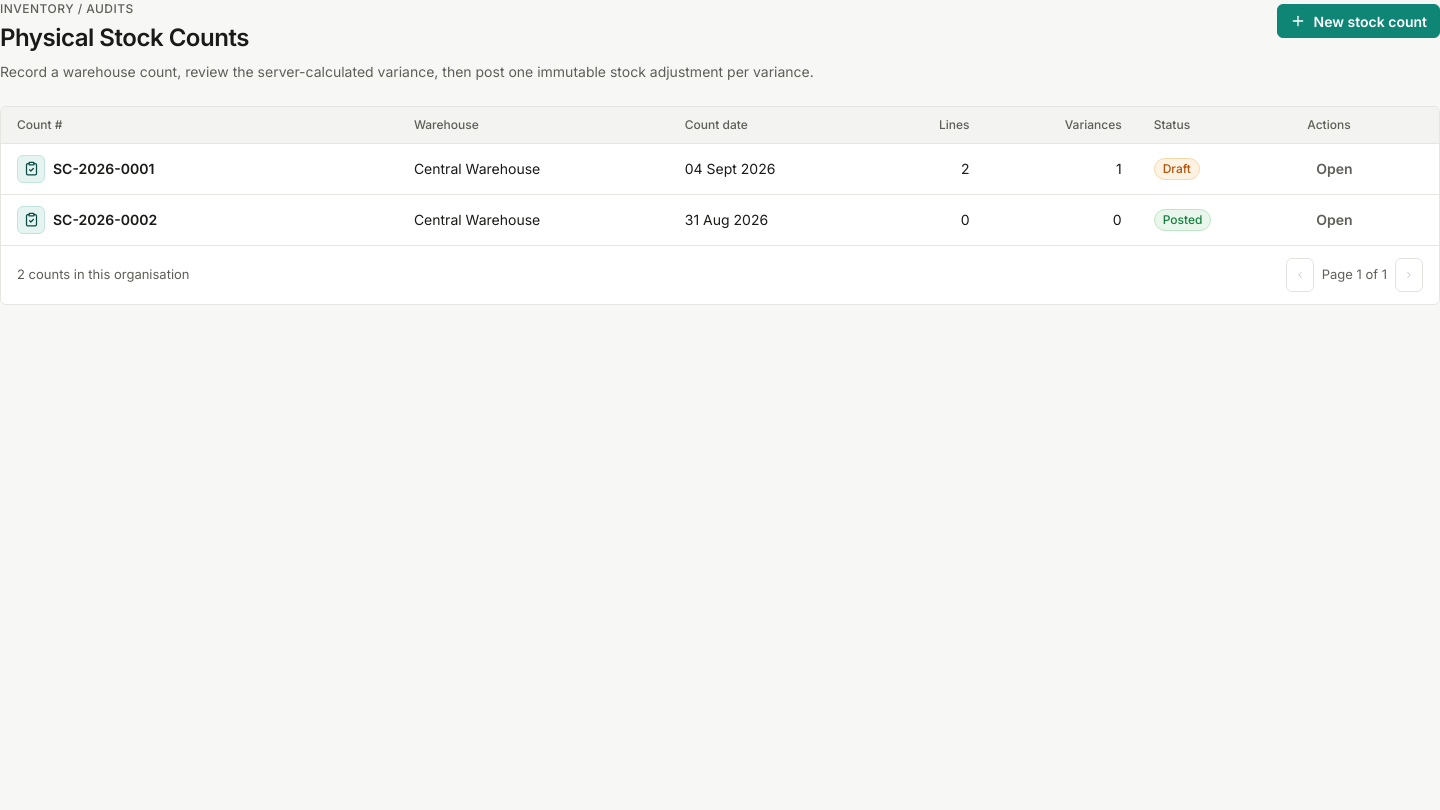
Scenario: Stock Counts & Audits Workspace › opens create modal when clicking Start Stock Count
The width and height of the screenshot is (1440, 810).
Expected: the text "SC-2026-0001" is shown, [53, 158, 154, 179]
Click the button "New stock count".
click(1358, 21)  # box [1277, 4, 1439, 38]
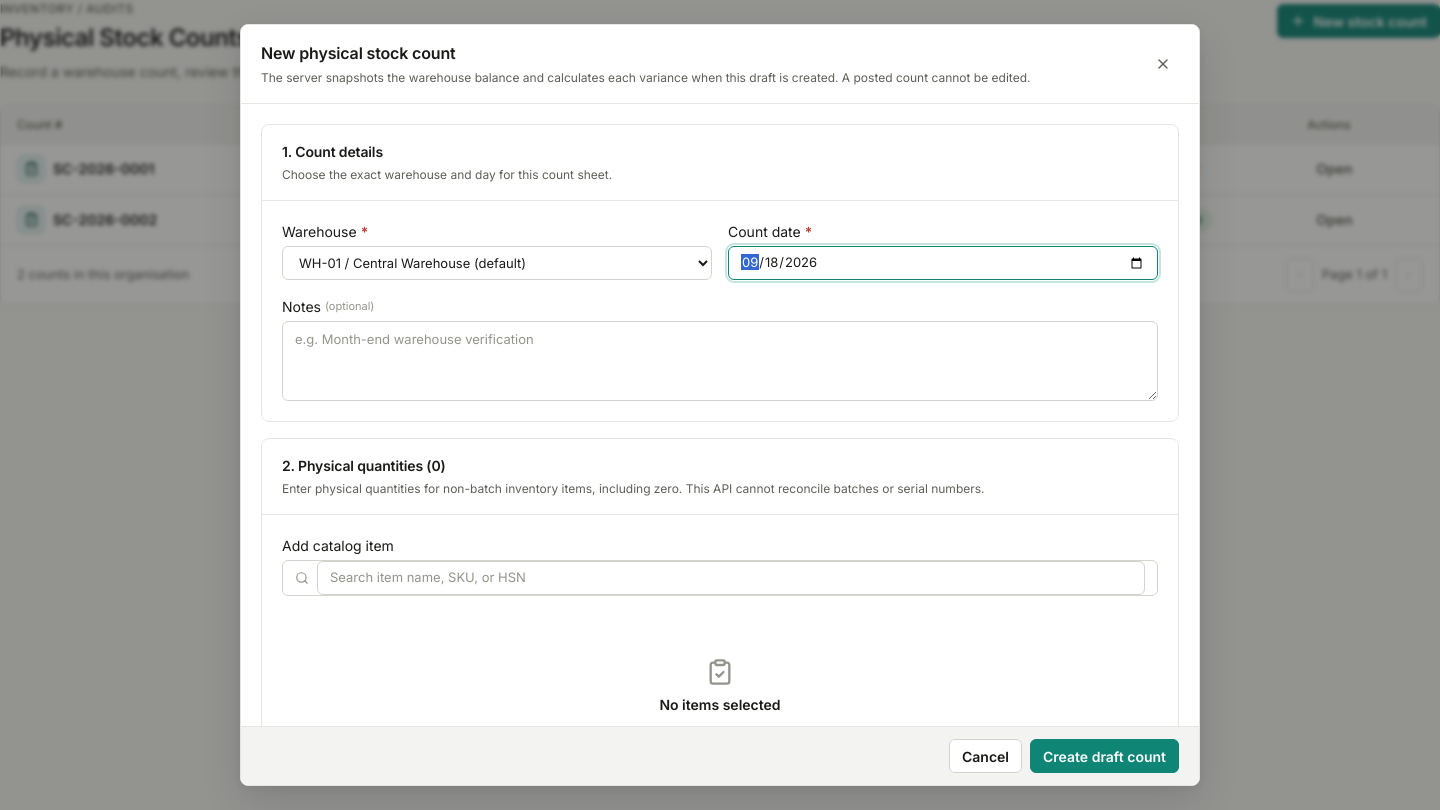
Result: the heading "New physical stock count" is shown at [261, 43, 456, 63]
